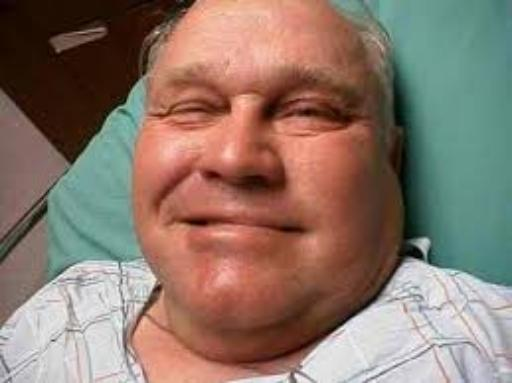left_eye: (280, 104, 348, 124)
left_lip_corner: (275, 223, 320, 242)
right_eye: (167, 105, 221, 118)
right_lip_corner: (170, 215, 207, 233)
